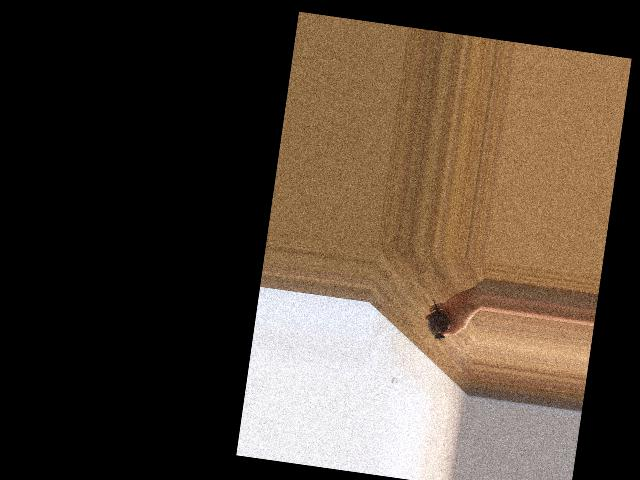beet: (425, 299, 453, 340)
